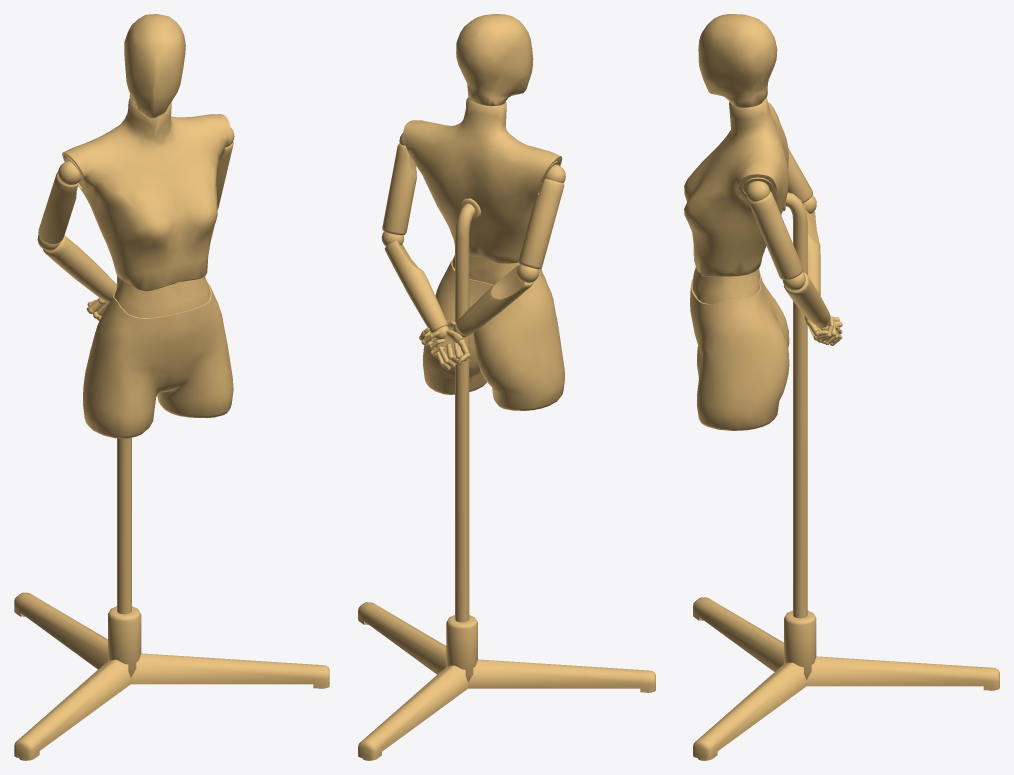
Rendered from Mannequin_1_4.fbx.
3 views of the same model, side by side, from view 1: azimuth 30°, elevation 25°; view 2: azimuth 150°, elevation 25°; view 3: azimuth 270°, elevation 25° (orthographic). The views are drawn at different scales.
Parts seen in each view (by area): view 1: SM_Mannequin_1_4; view 2: SM_Mannequin_1_4; view 3: SM_Mannequin_1_4.
Part boxes in pixels (<box>): SM_Mannequin_1_4: <box>14,14,329,760</box>; SM_Mannequin_1_4: <box>358,14,655,760</box>; SM_Mannequin_1_4: <box>684,14,999,760</box>.
Size of the model in its own units: 82.09 by 172 by 73.46.
